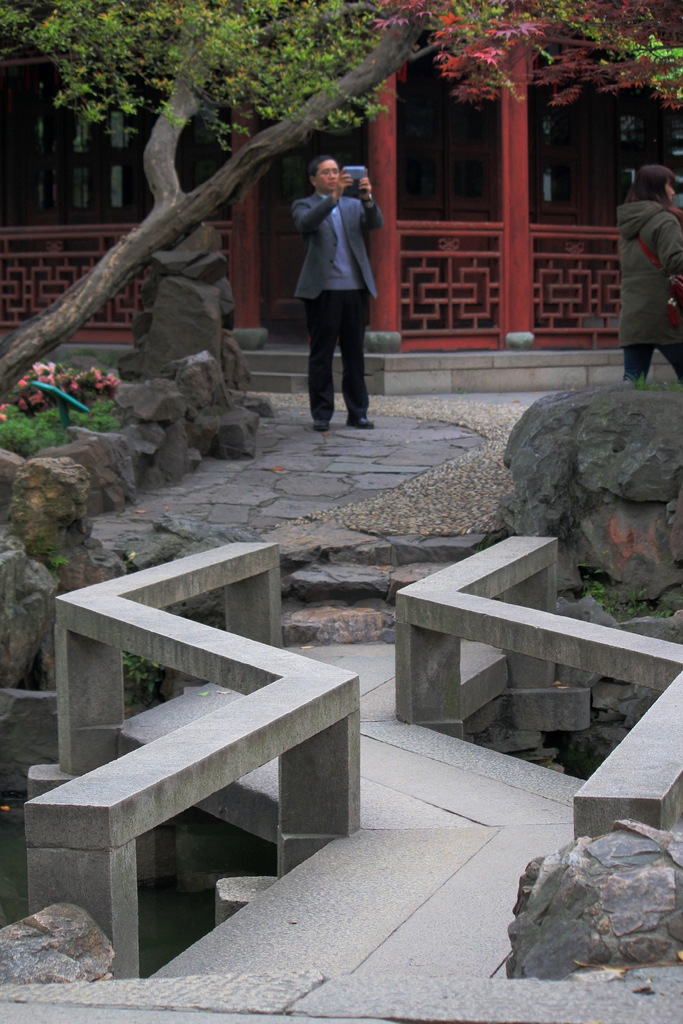Footwear: (344, 408, 375, 425), (347, 419, 373, 429), (315, 419, 331, 433)
